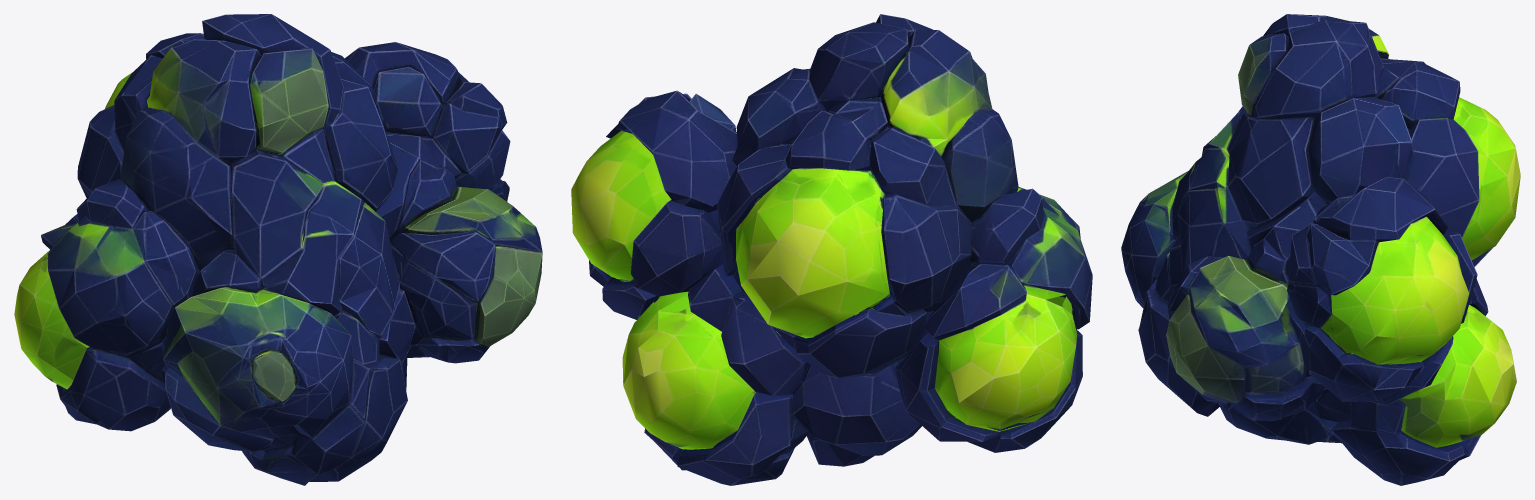
3 views of the same model, side by side, from view 1: azimuth 30°, elevation 25°; view 2: azimuth 150°, elevation 25°; view 3: azimuth 270°, elevation 25° (orthographic). The views are drawn at different scales.
Visible parts, largest first — view 1: output_unwrapped; view 2: output_unwrapped; view 3: output_unwrapped.
Boxes of the visible parts, <box> form: output_unwrapped: <box>14,14,542,485</box>; output_unwrapped: <box>571,14,1092,485</box>; output_unwrapped: <box>1121,14,1520,485</box>.
Size of the model in its own units: 1.9 by 1.69 by 1.51.
1 material, 1 textured.
